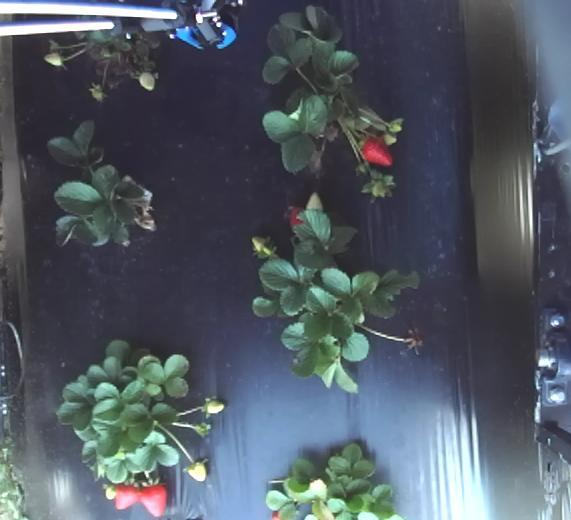mature: (359, 135, 393, 167), (111, 480, 140, 511), (141, 483, 167, 516), (287, 208, 307, 227)
